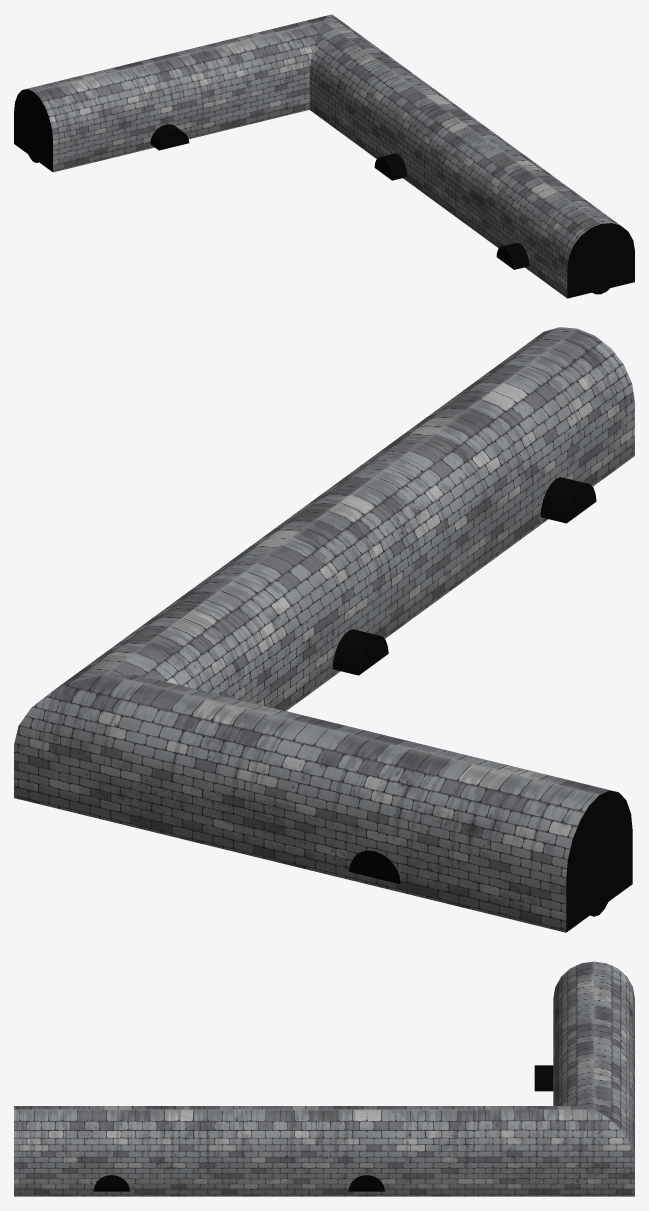
Rendered from obj_sewer_modify.fbx.
The picture shows the model from 3 angles, top to bottom: view 1: azimuth 30°, elevation 25°; view 2: azimuth 150°, elevation 25°; view 3: azimuth 270°, elevation 25°; orthographic projection. The views are drawn at different scales.
Parts seen in each view (by area): view 1: obj_sewer; view 2: obj_sewer; view 3: obj_sewer.
Part boxes in pixels (<box>): obj_sewer: <box>14,14,634,298</box>; obj_sewer: <box>14,327,634,932</box>; obj_sewer: <box>14,961,634,1196</box>.
Bounding box in the file's own units: 54.73 × 11.35 × 86.82.
Materials: 1 (1 with a texture image).
